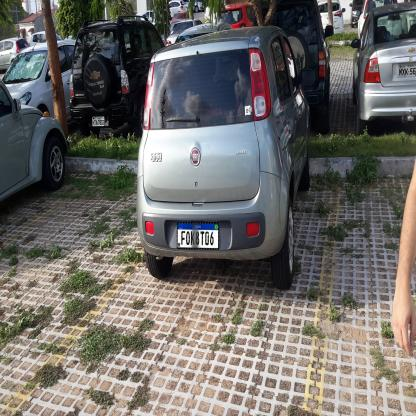PlacaM: (177, 222, 219, 250)
